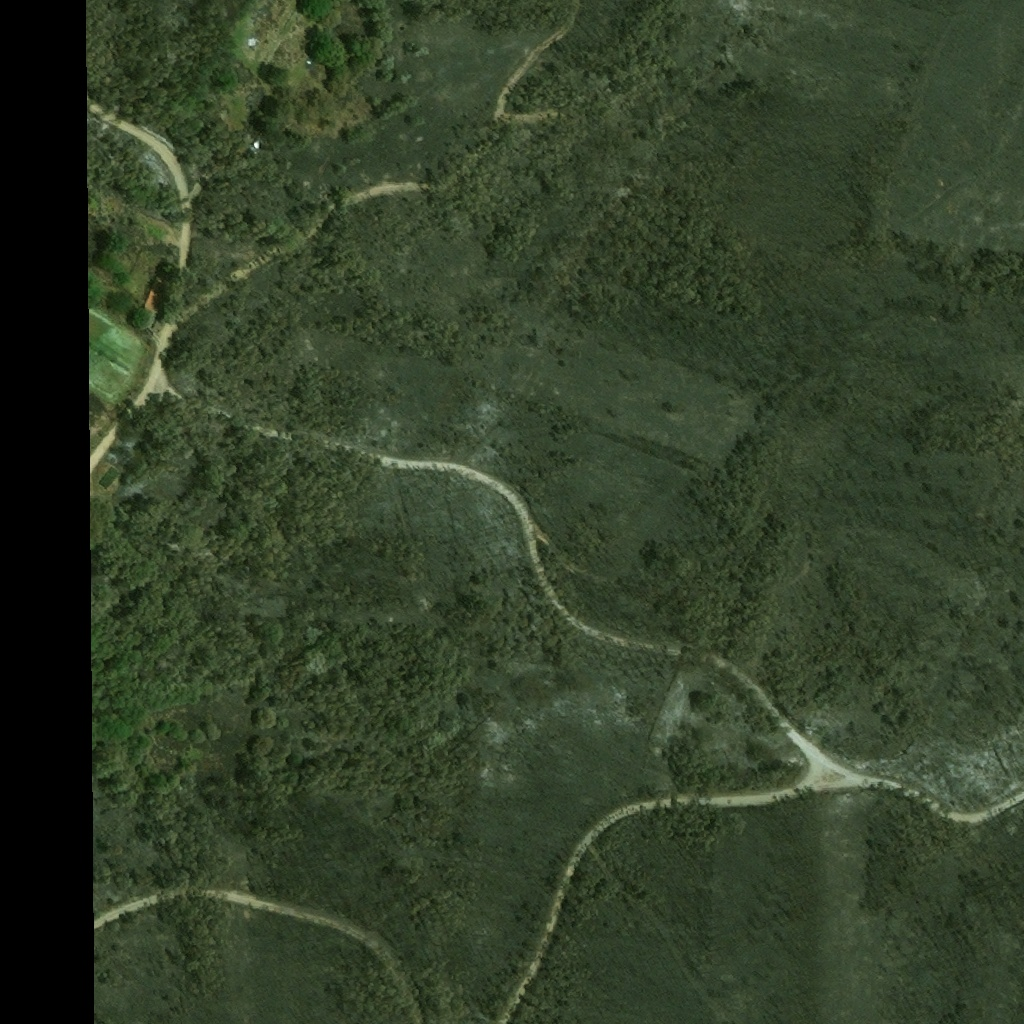0 no-damage: (142, 284, 165, 314)
3 destroyed: (96, 465, 119, 490), (250, 141, 262, 152)
4 un-classified: (149, 318, 165, 335)
